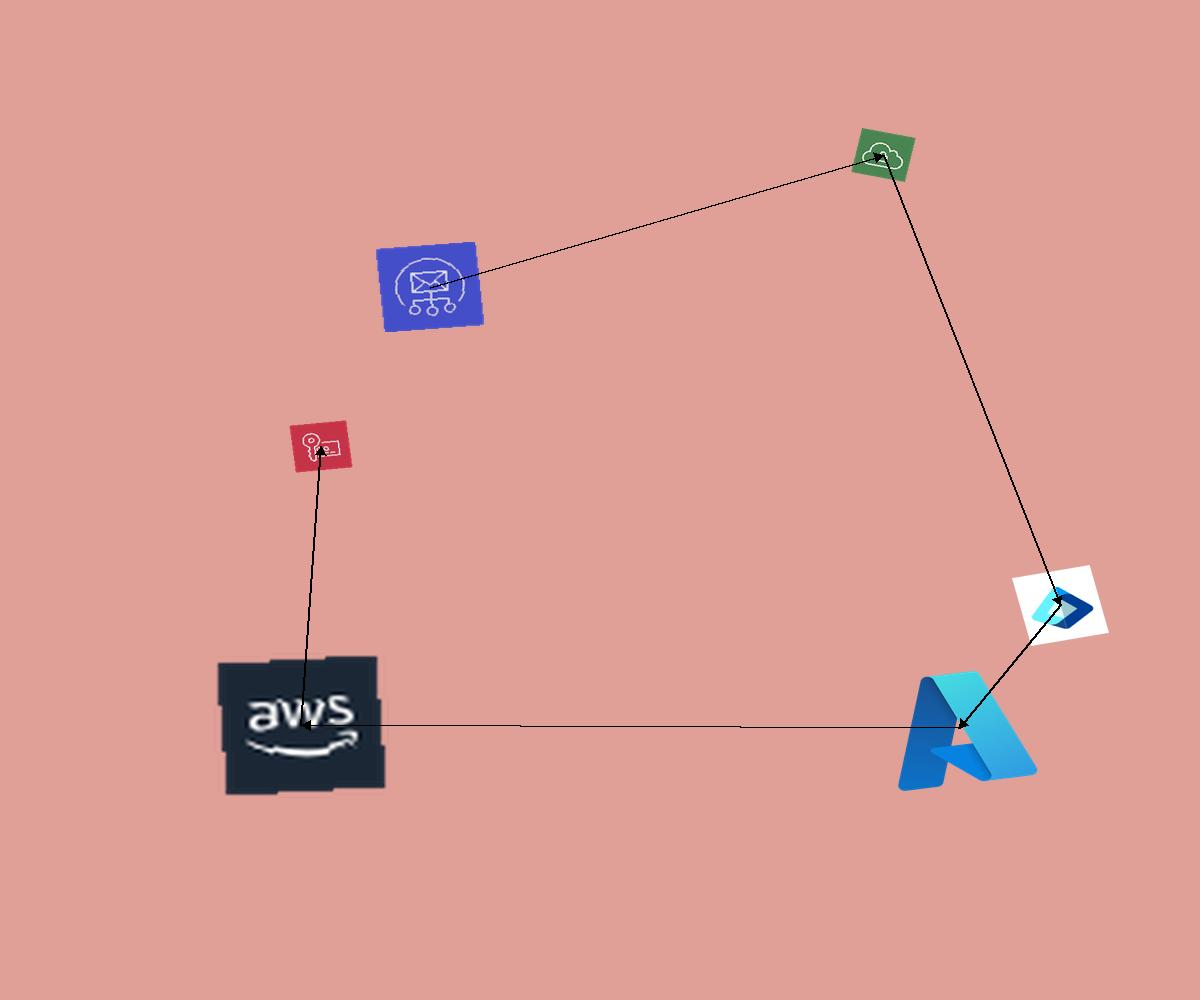AWS-Cloud-logo: (214, 653, 389, 798)
AWS-Key-Management-Service: (289, 420, 353, 473)
AWS-Private_vpc: (851, 128, 916, 182)
AWS-Simple-Email-Service: (375, 241, 485, 333)
Azure_microsoft_entra: (1012, 565, 1109, 646)
Azure_services: (872, 656, 1046, 801)
